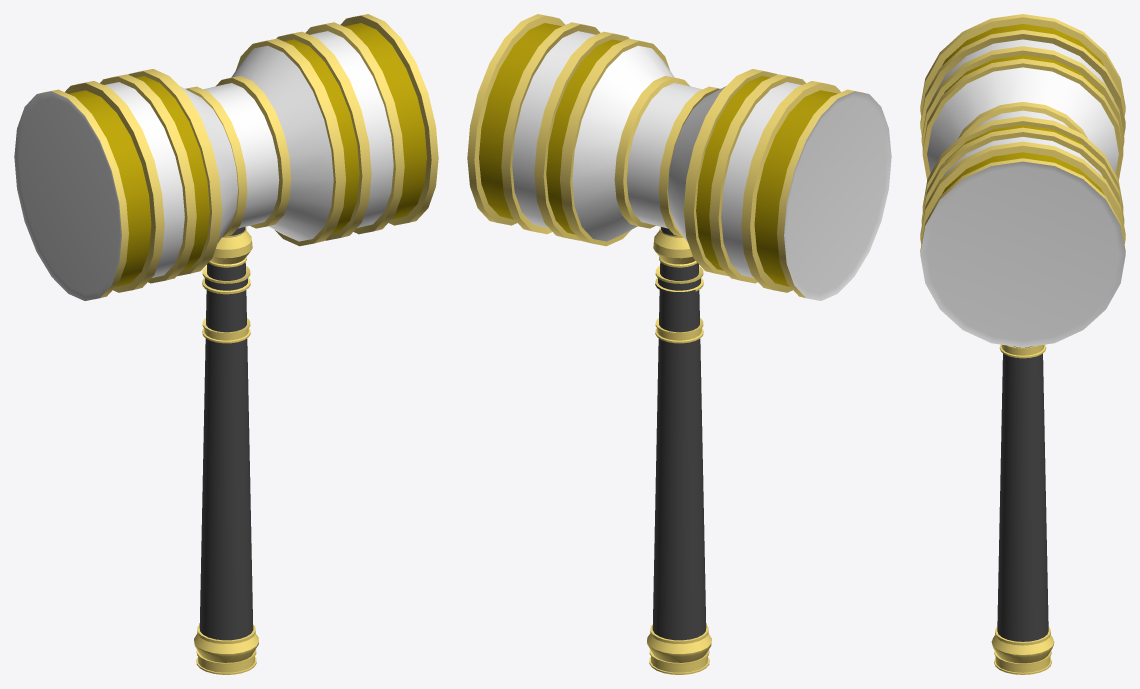
The model's file is Hammer.fbx.
3 renders of one model, left to right at view 1: azimuth 30°, elevation 25°; view 2: azimuth 150°, elevation 25°; view 3: azimuth 270°, elevation 25°, orthographic. The views are drawn at different scales.
Parts seen in each view (by area): view 1: Hammer; view 2: Hammer; view 3: Hammer.
Boxes of the visible parts, box(x1,y1,x2,y2) form: Hammer: box(14, 14, 438, 674); Hammer: box(467, 14, 891, 674); Hammer: box(920, 14, 1125, 674).
Size of the model in its own units: 4.73 by 8.6 by 2.79.
